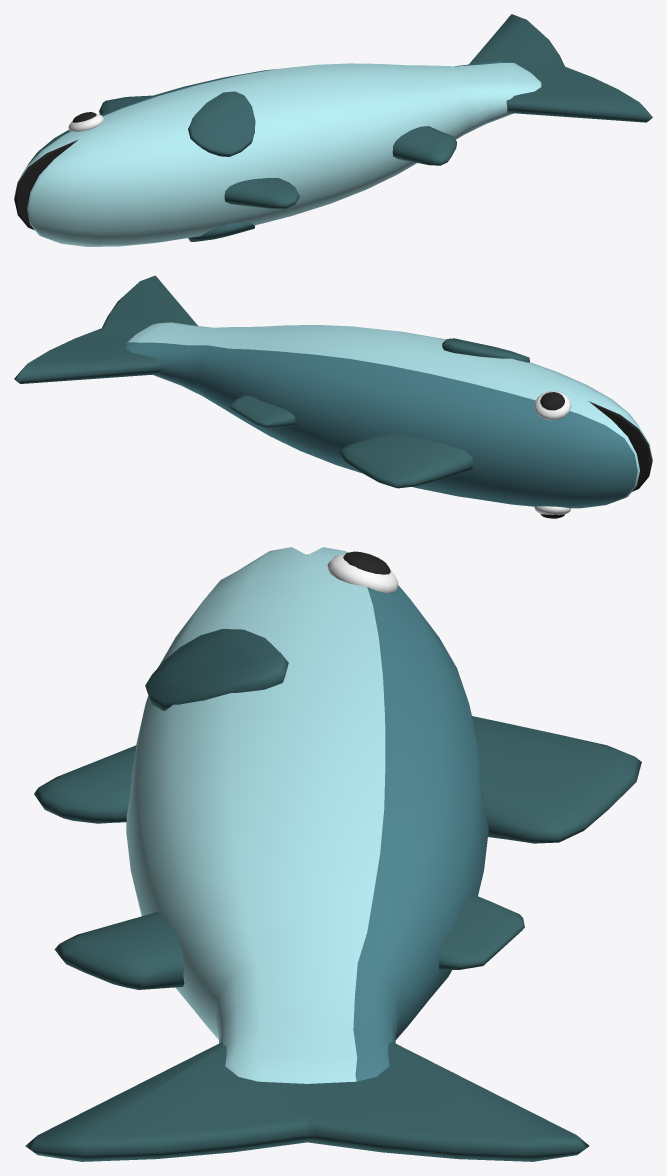
Rendered from SeaBass_1.fbx.
3 renders of one model, top to bottom at view 1: azimuth 30°, elevation 25°; view 2: azimuth 150°, elevation 25°; view 3: azimuth 270°, elevation 25°, orthographic. The views are drawn at different scales.
Visible parts, largest first — view 1: SeaBass_1; view 2: SeaBass_1; view 3: SeaBass_1.
Part boxes in pixels (bbox=[...]): SeaBass_1: bbox=[14, 14, 652, 246]; SeaBass_1: bbox=[14, 275, 652, 518]; SeaBass_1: bbox=[25, 547, 641, 1161].
Size of the model in its own units: 100 by 23.33 by 47.19.
